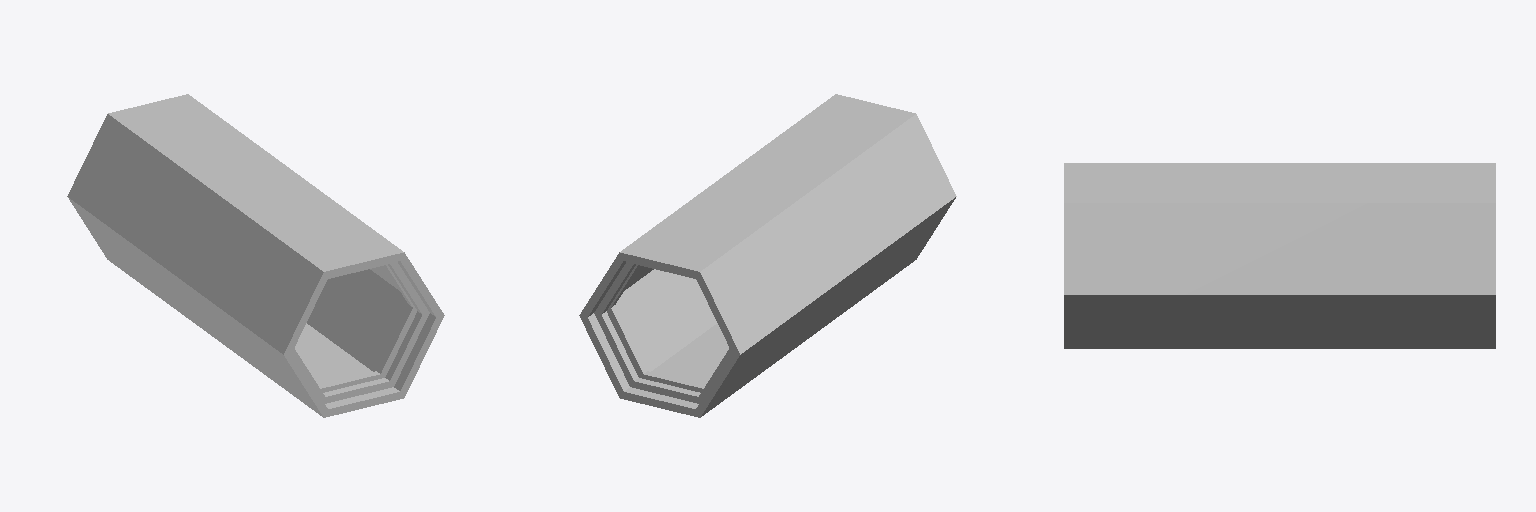
Rendered from Pasillo.obj.
3 renders of one model, left to right at view 1: azimuth 30°, elevation 25°; view 2: azimuth 150°, elevation 25°; view 3: azimuth 270°, elevation 25°, orthographic.
Parts seen in each view (by area): view 1: Passillo1_Cylinder; view 2: Passillo1_Cylinder; view 3: Passillo1_Cylinder.
Part boxes in pixels (bbox=[...]): Passillo1_Cylinder: bbox=[67, 94, 444, 417]; Passillo1_Cylinder: bbox=[579, 94, 956, 417]; Passillo1_Cylinder: bbox=[1064, 163, 1495, 348].
Size of the model in its own units: 0.9517 by 0.8244 by 2.21.